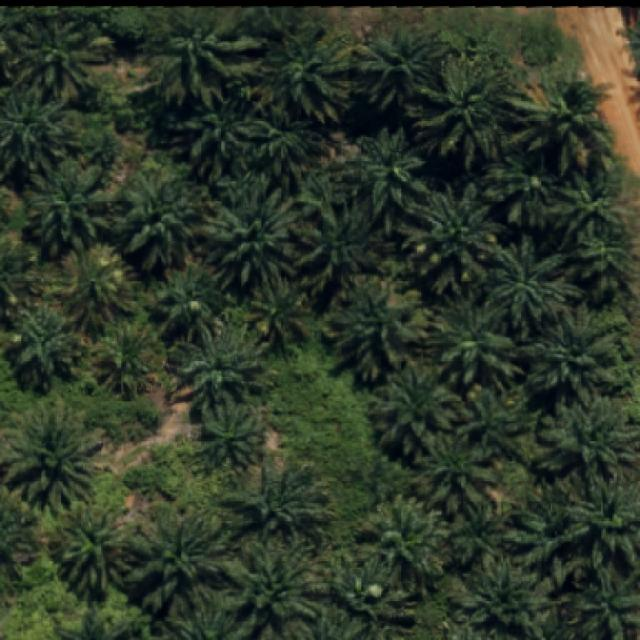Kelapa_Sawit: (398, 181, 513, 297), (202, 170, 303, 301), (418, 46, 520, 172), (507, 68, 616, 180), (124, 512, 231, 625), (4, 405, 104, 520), (366, 363, 472, 468), (165, 315, 270, 419), (425, 283, 523, 394), (516, 306, 616, 414), (295, 193, 393, 302), (258, 22, 358, 128), (446, 549, 562, 640), (328, 273, 422, 385), (112, 170, 208, 279), (481, 232, 585, 332), (224, 541, 330, 636), (178, 87, 277, 187), (47, 497, 135, 605), (20, 154, 111, 258), (536, 397, 639, 483), (8, 18, 115, 100), (352, 492, 446, 585), (238, 460, 333, 552), (413, 427, 499, 524), (344, 125, 428, 220), (357, 29, 451, 113), (147, 260, 228, 352), (479, 147, 568, 230), (505, 482, 590, 568), (6, 303, 83, 395), (566, 476, 640, 570), (330, 550, 422, 625), (69, 248, 140, 342), (456, 386, 532, 466), (245, 272, 310, 362), (552, 167, 620, 251), (198, 399, 268, 472), (252, 110, 321, 184), (448, 499, 518, 568), (98, 324, 157, 398)
